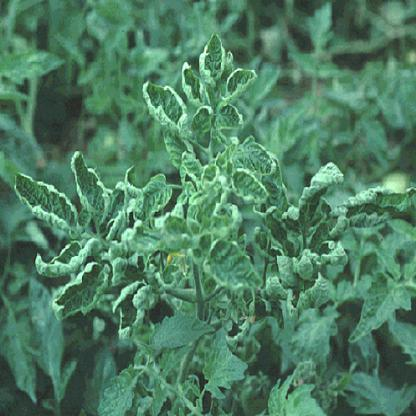tomato leaf yellow virus: (15, 260, 115, 334), (12, 168, 88, 245), (201, 233, 270, 301), (16, 239, 107, 280), (213, 154, 273, 215), (234, 134, 284, 192), (63, 141, 100, 219), (141, 81, 191, 129), (198, 27, 227, 107), (215, 69, 271, 105)
